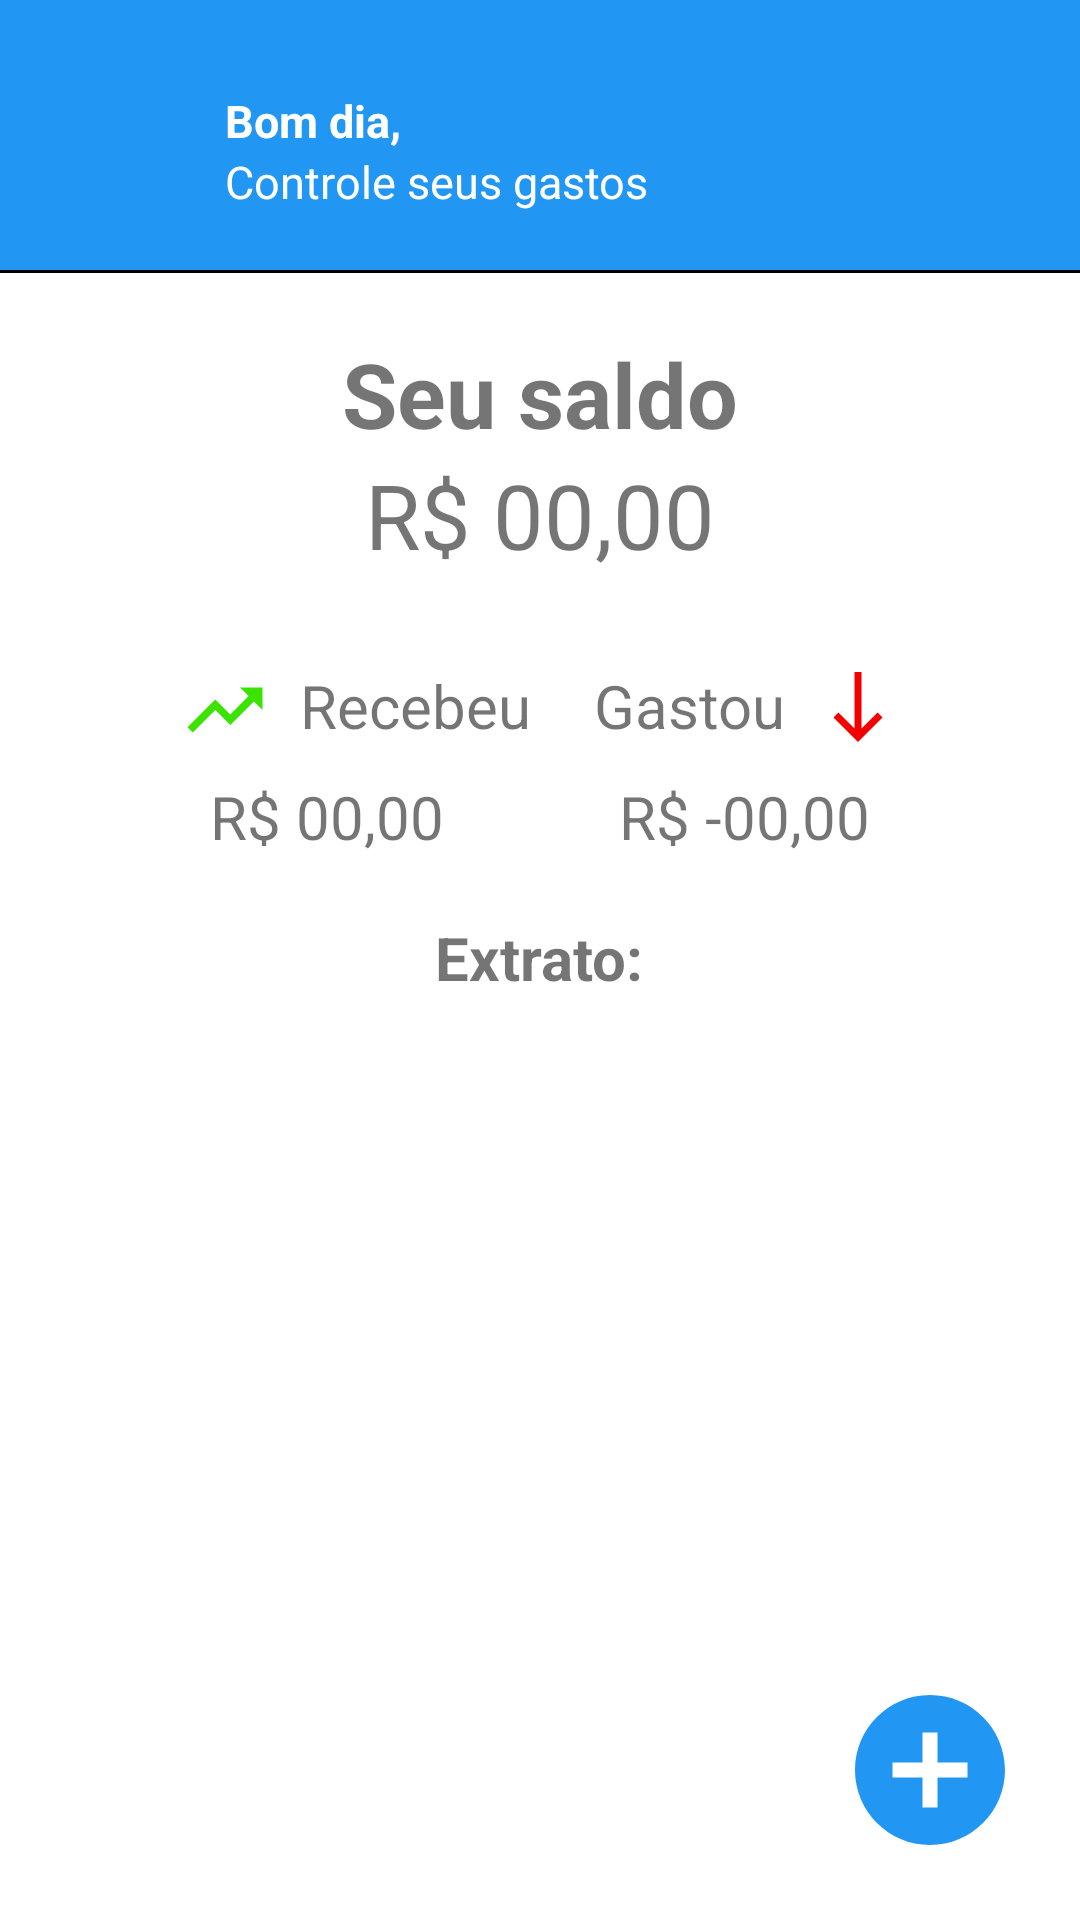

Where icons sit on this 1080 × 1920 app screen, as (x1, y1, x2, y2):
add: (855, 1695, 1005, 1845)
